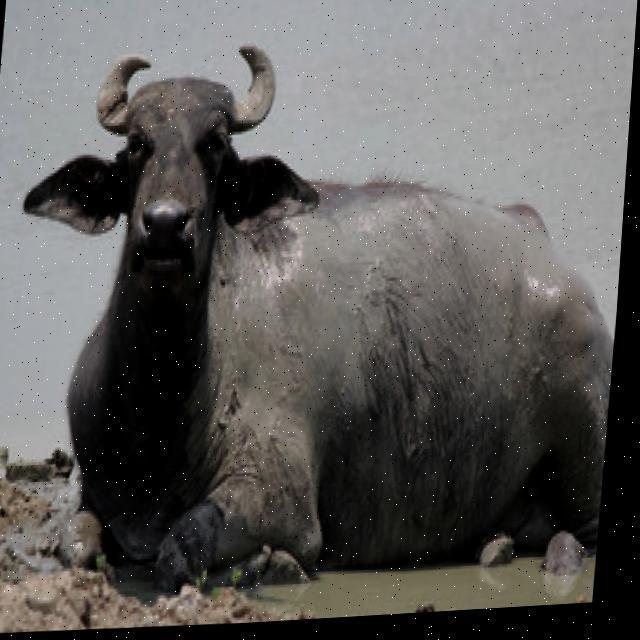Buffalo: (0, 11, 637, 614)
